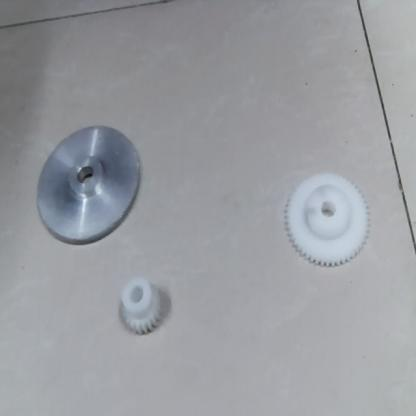FOD: (34, 120, 146, 250), (281, 166, 368, 268), (115, 280, 166, 341)
